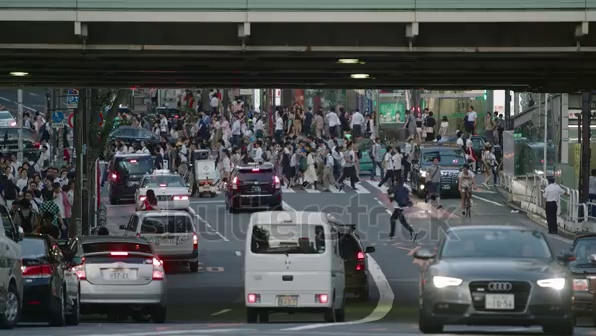licenseplate: (482, 291, 519, 317)
